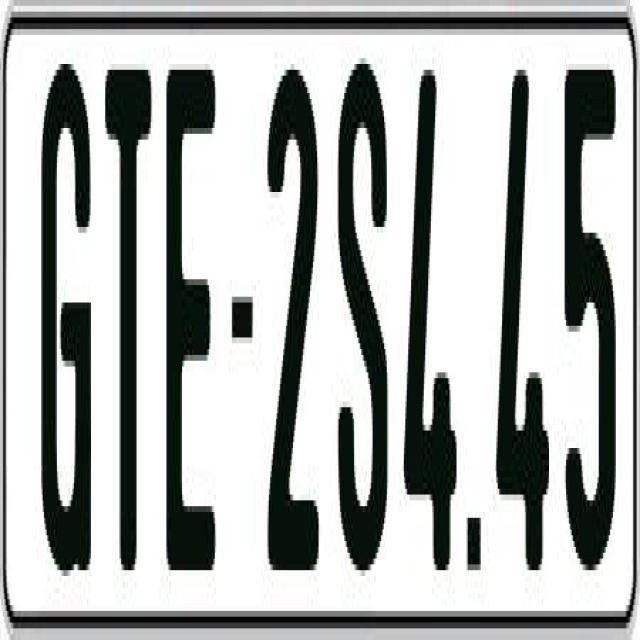2: (266, 63, 319, 600)
4: (402, 64, 460, 588), (492, 58, 549, 588)
5: (560, 52, 612, 570)
E: (162, 58, 211, 594)
G: (36, 46, 92, 588)
S: (334, 52, 384, 564)
T: (100, 52, 146, 553)
